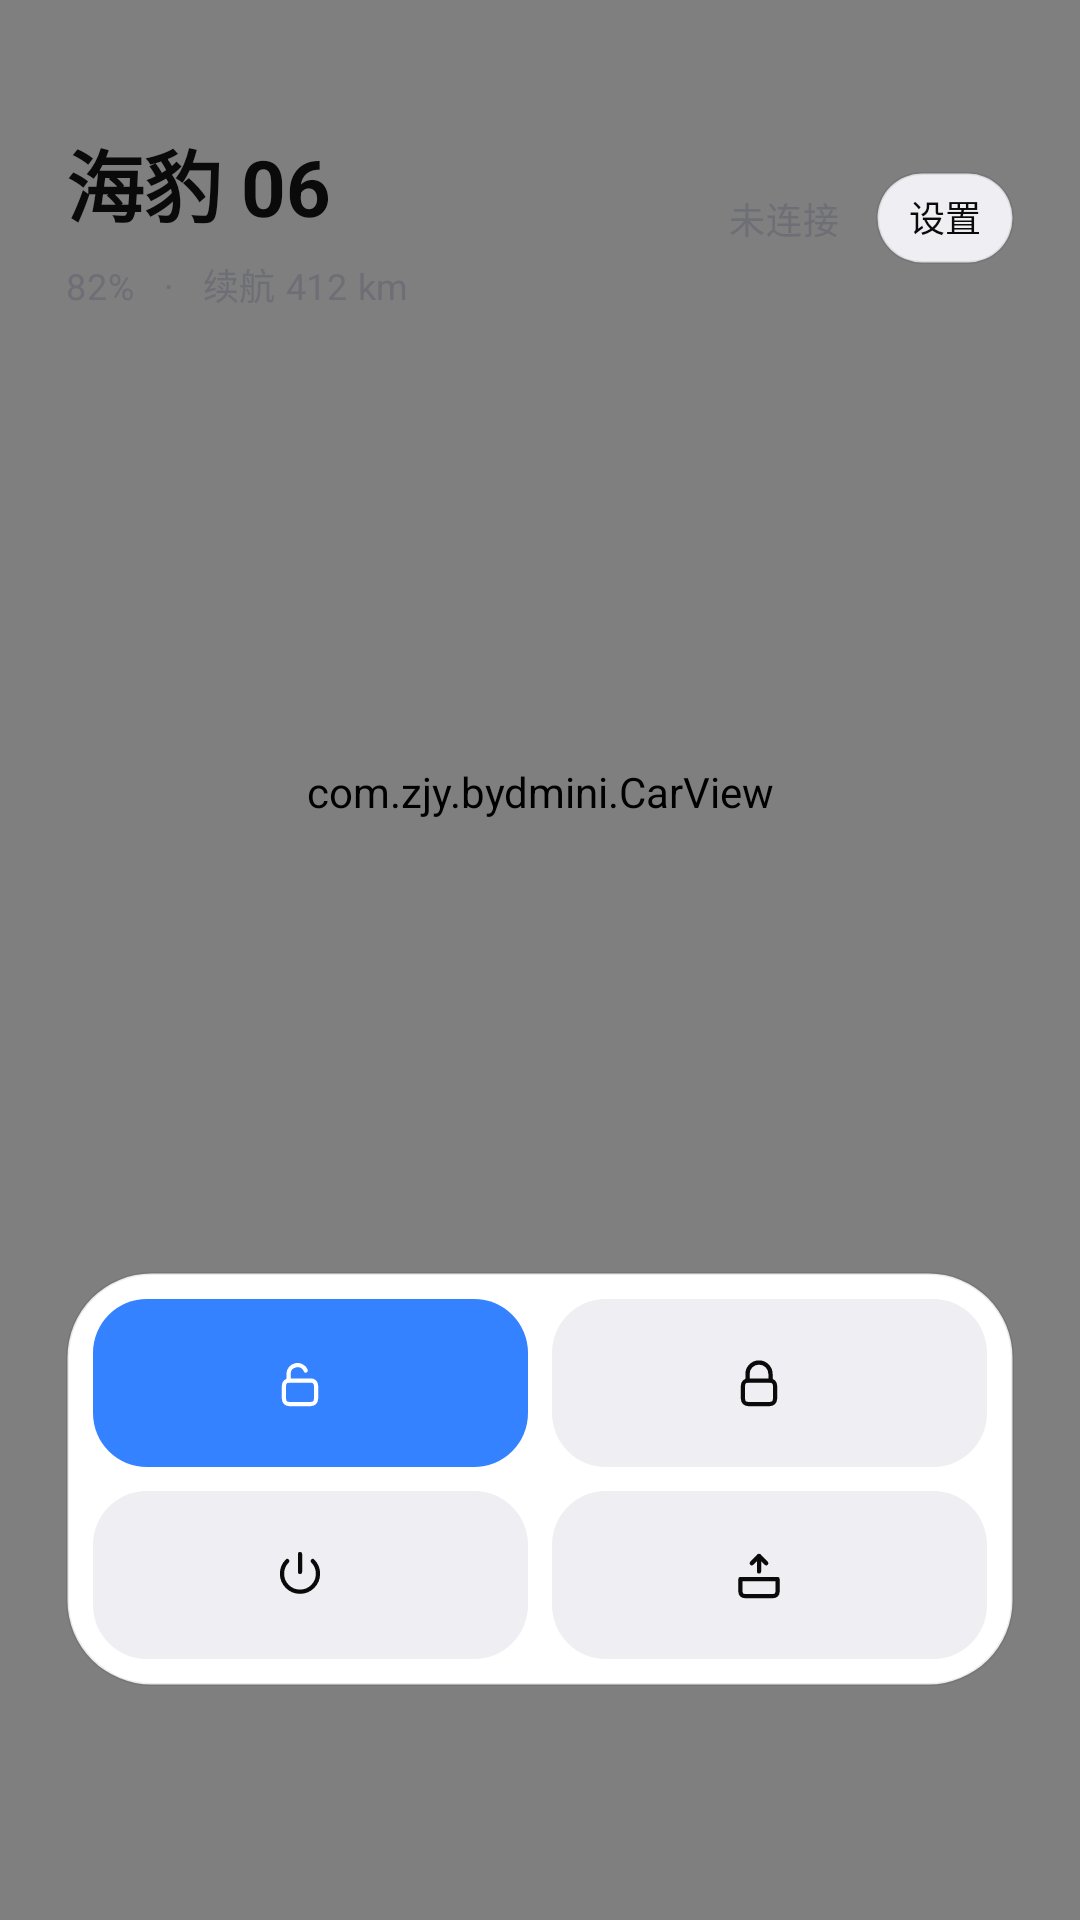

Screen size 1080 x 1920. Icon name, then its center in pixels as point (x, y):
lock: point (759, 1383)
power: point (300, 1573)
trunk: point (759, 1576)
unlock: point (300, 1385)
